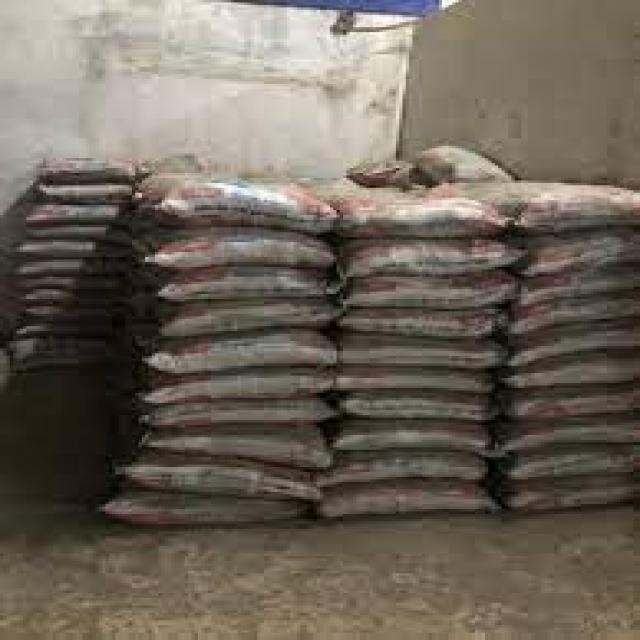cement_bag: (147, 359, 336, 415), (127, 453, 316, 505), (321, 476, 495, 522), (144, 176, 323, 220), (341, 415, 495, 458), (170, 298, 326, 339), (162, 232, 329, 270), (359, 238, 510, 280), (347, 359, 501, 400), (519, 288, 627, 344), (344, 194, 498, 232), (530, 226, 631, 282), (517, 349, 629, 399), (359, 276, 516, 310), (519, 415, 631, 456), (32, 205, 113, 227), (46, 183, 130, 203), (46, 165, 130, 184), (22, 259, 87, 278), (23, 240, 96, 255), (25, 289, 78, 305)
